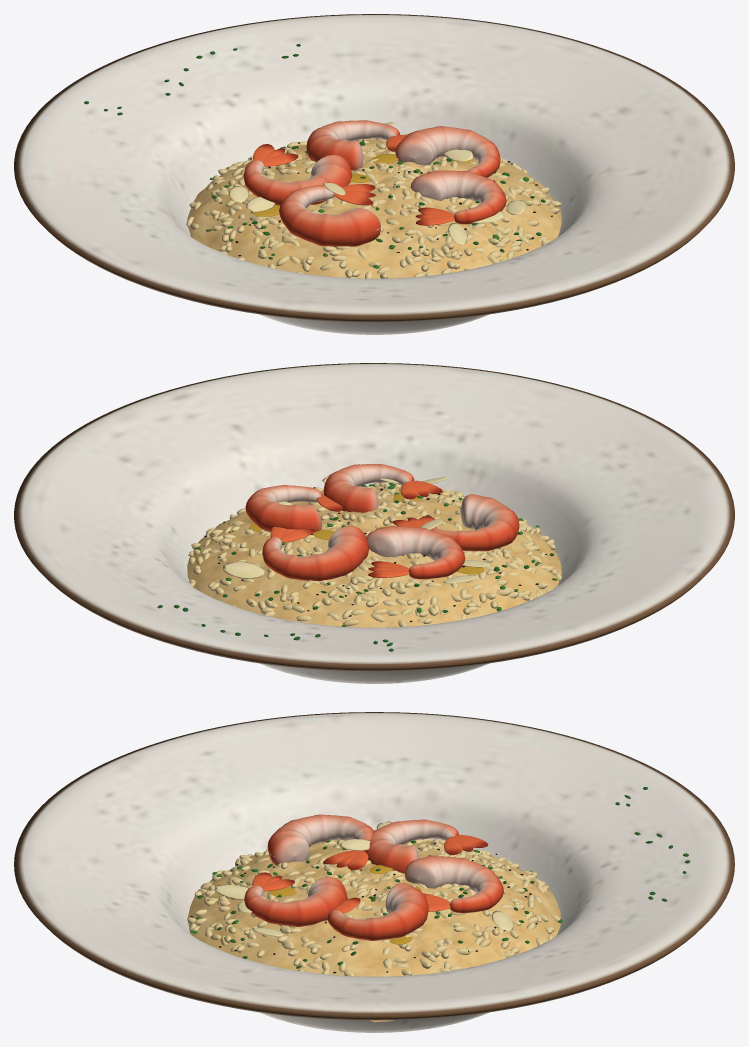
The model's file is shrimp-risotto.glb.
3 views of the same model, one above another, from view 1: azimuth 30°, elevation 25°; view 2: azimuth 150°, elevation 25°; view 3: azimuth 270°, elevation 25° (orthographic).
Parts seen in each view (by area): view 1: ceramic, satin, gloss; view 2: ceramic, satin, gloss; view 3: ceramic, satin.
Boxes of the visible parts, x1=… form: ceramic: x1=14, y1=14, x2=734, y2=334; satin: x1=84, y1=44, x2=561, y2=278; gloss: x1=252, y1=153, x2=473, y2=216; ceramic: x1=14, y1=363, x2=734, y2=683; satin: x1=157, y1=464, x2=561, y2=651; gloss: x1=250, y1=492, x2=484, y2=574; ceramic: x1=14, y1=712, x2=734, y2=1032; satin: x1=187, y1=787, x2=690, y2=1022.
Size of the model in its own units: 0.2697 by 0.0439 by 0.2697.
4 materials, 4 textured.
